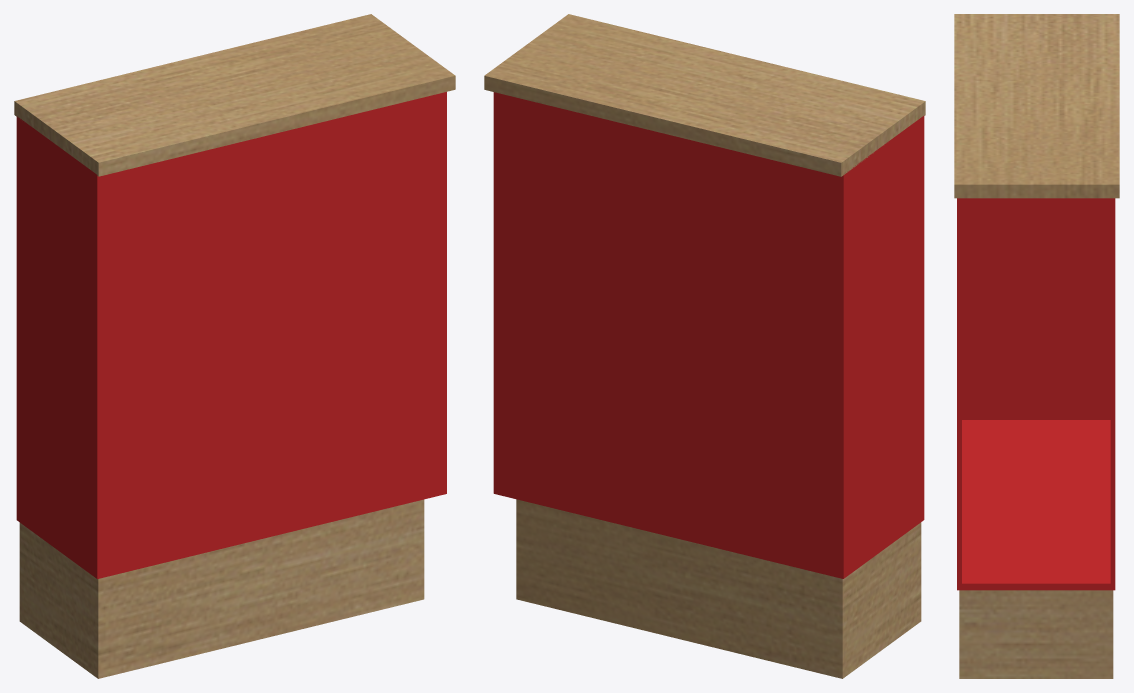
File: MOD_FUR_Kitchen_counter_03.fbx
3 views of the same model, side by side, from view 1: azimuth 30°, elevation 25°; view 2: azimuth 150°, elevation 25°; view 3: azimuth 270°, elevation 25° (orthographic). The views are drawn at different scales.
Parts seen in each view (by area): view 1: HSHP_MOD_Kitchen_counter_03; view 2: HSHP_MOD_Kitchen_counter_03; view 3: HSHP_MOD_Kitchen_counter_03.
Boxes of the visible parts, x1,y1,x2,y2 form: HSHP_MOD_Kitchen_counter_03: (14, 14, 455, 678); HSHP_MOD_Kitchen_counter_03: (484, 14, 925, 678); HSHP_MOD_Kitchen_counter_03: (954, 14, 1119, 678).
Size of the model in its own units: 0.7707 by 1.07 by 0.3153.
